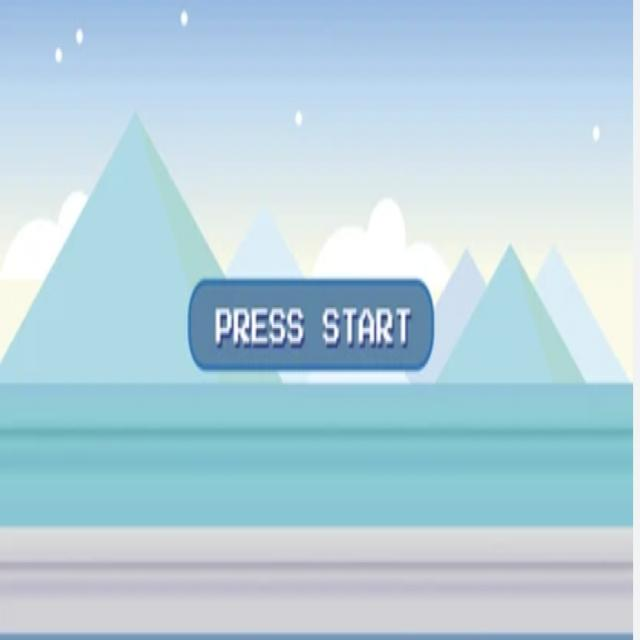Start-button: (192, 264, 430, 374)
